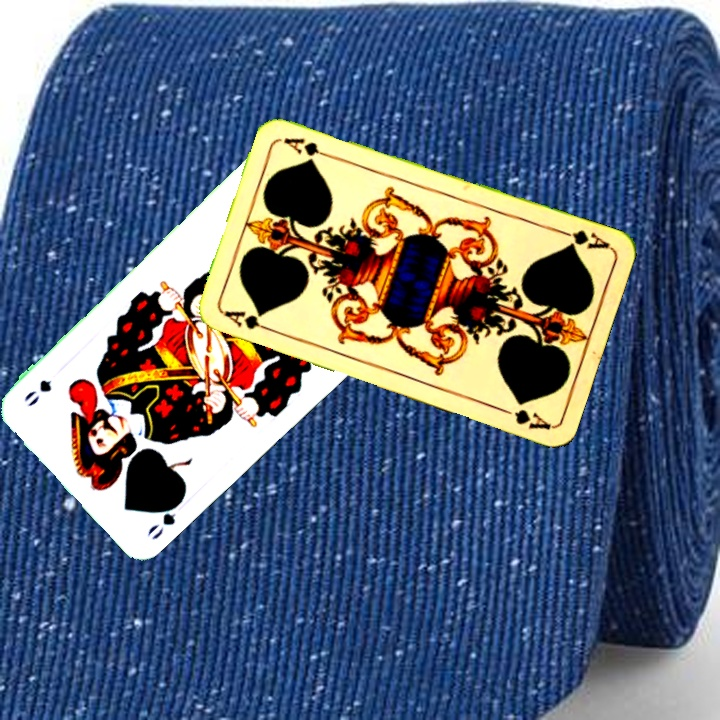GA: (220, 306, 277, 335), (554, 225, 612, 252)
GO: (143, 492, 187, 543)
